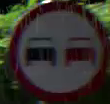No overtake: (8, 0, 107, 101)
